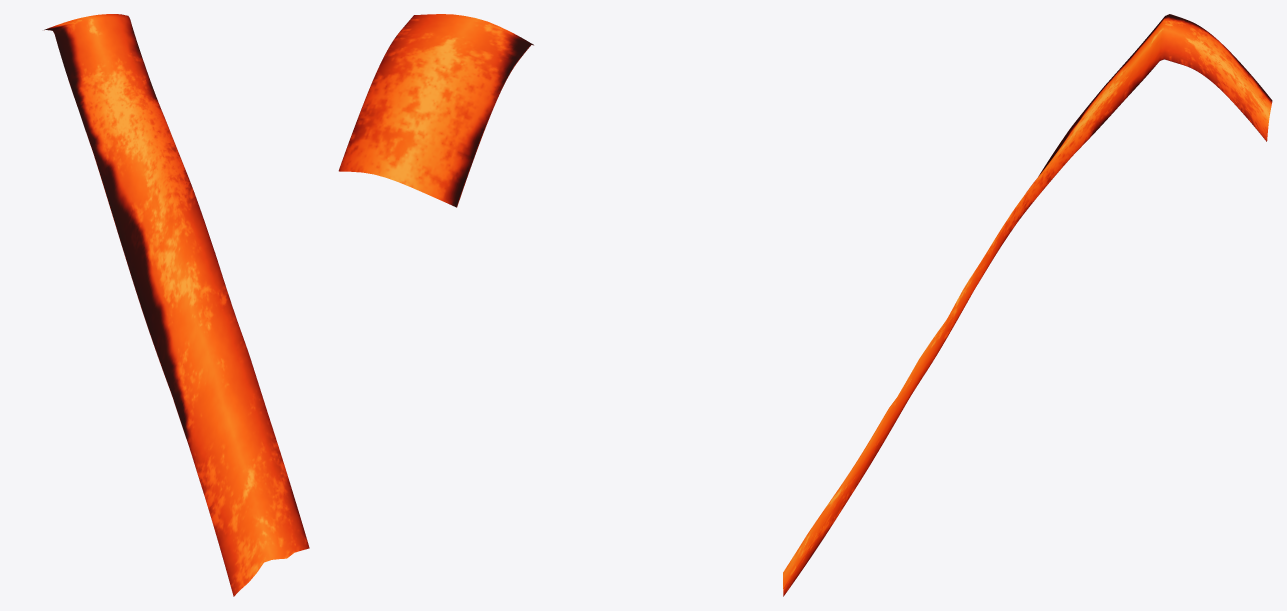
File: flow_2_0.glb
3 views of the same model, side by side, from view 1: azimuth 30°, elevation 25°; view 2: azimuth 150°, elevation 25°; view 3: azimuth 270°, elevation 25° (orthographic). The views are drawn at different scales.
Size of the model in its own units: 3.33 by 14.6 by 11.46.
